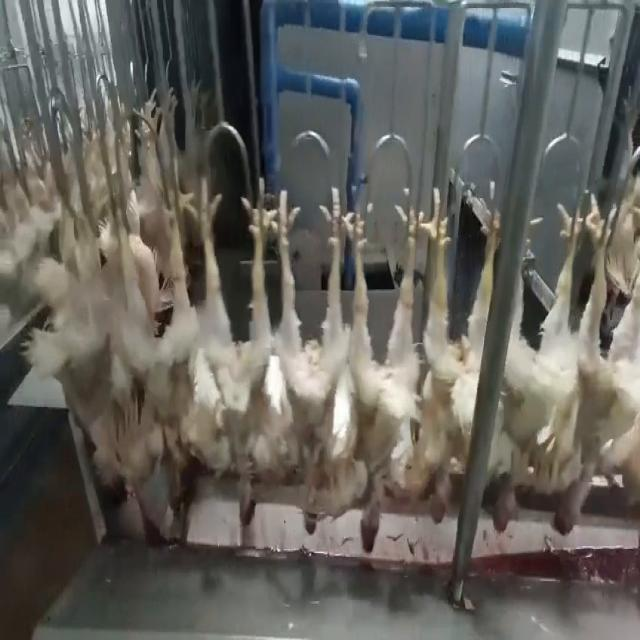chicken: (398, 197, 505, 531), (486, 209, 587, 538), (337, 180, 425, 553), (268, 184, 357, 532), (551, 201, 639, 539), (111, 178, 198, 506), (193, 169, 271, 526)
